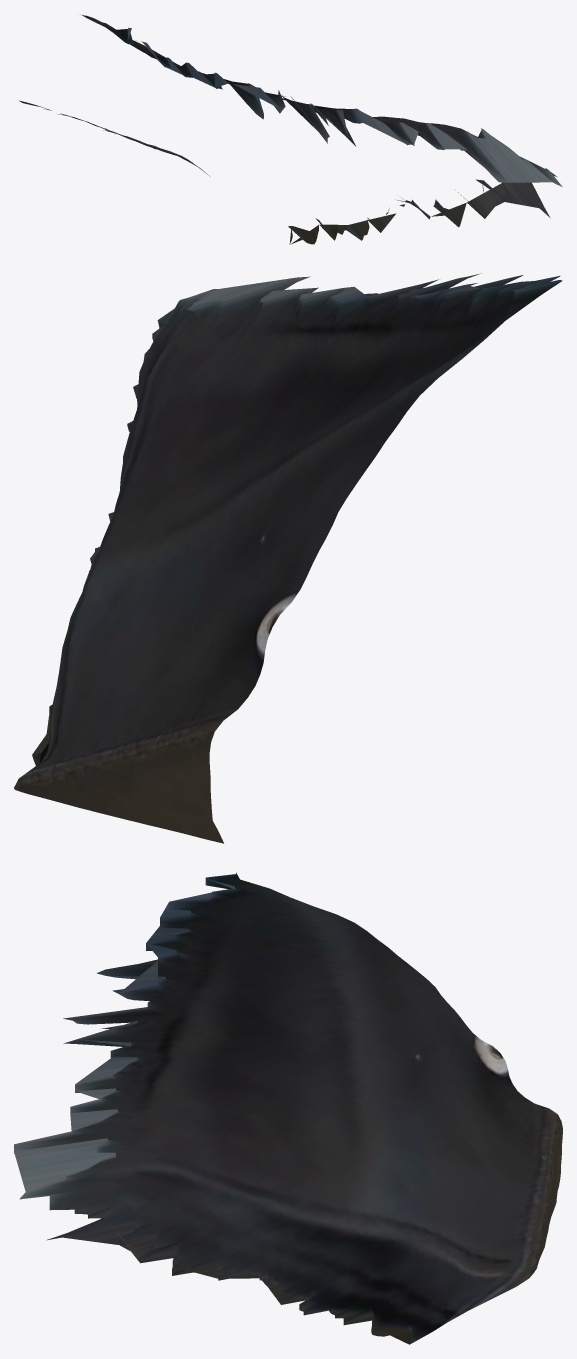
The model's file is observed-surface.glb.
3 renders of one model, top to bottom at view 1: azimuth 30°, elevation 25°; view 2: azimuth 150°, elevation 25°; view 3: azimuth 270°, elevation 25°, orthographic. The views are drawn at different scales.
Visible parts, largest first — view 1: geometry_0; view 2: geometry_0; view 3: geometry_0.
Boxes of the visible parts, x1,y1,x2,y2 form: geometry_0: (19, 14, 562, 244); geometry_0: (14, 273, 562, 843); geometry_0: (14, 872, 562, 1344).
Bounding box in the file's own units: 0.5583 × 0.5251 × 0.7586.
1 material, 1 textured.
